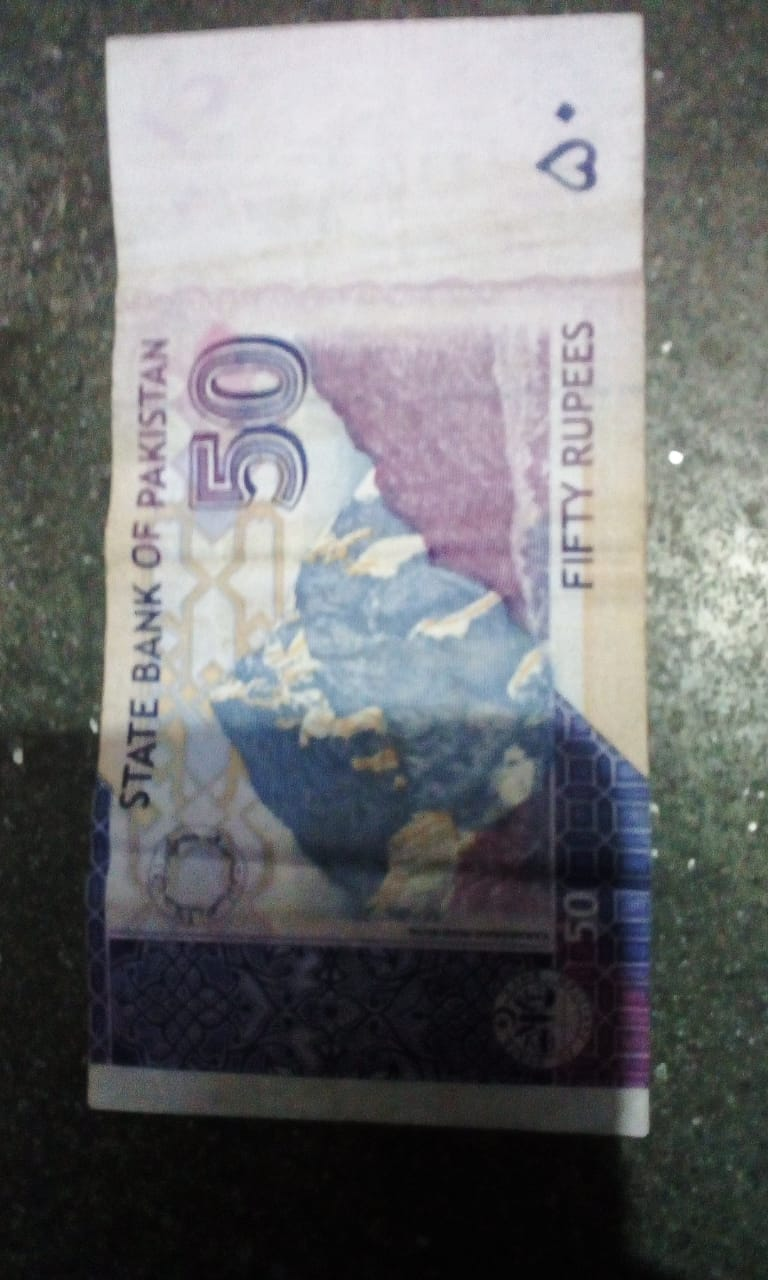50 rupee: (84, 35, 670, 1144)
